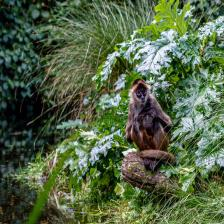monkey: (120, 73, 177, 182)
